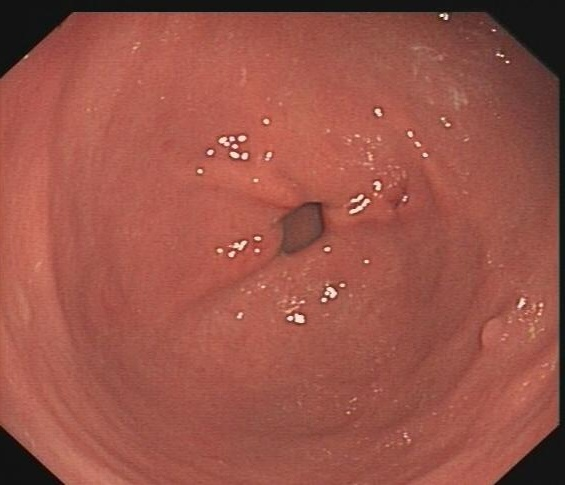Polyp: (463, 301, 523, 366)
